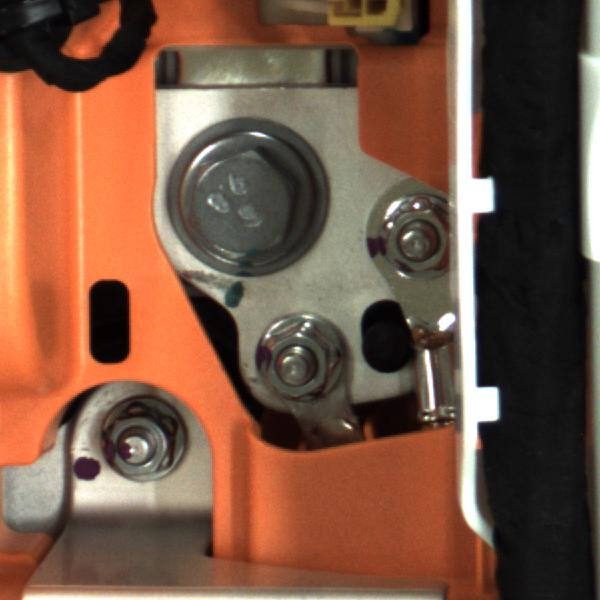nut_b: (156, 126, 322, 270)
screw_s: (241, 318, 352, 408), (96, 411, 197, 494), (370, 191, 462, 280)
